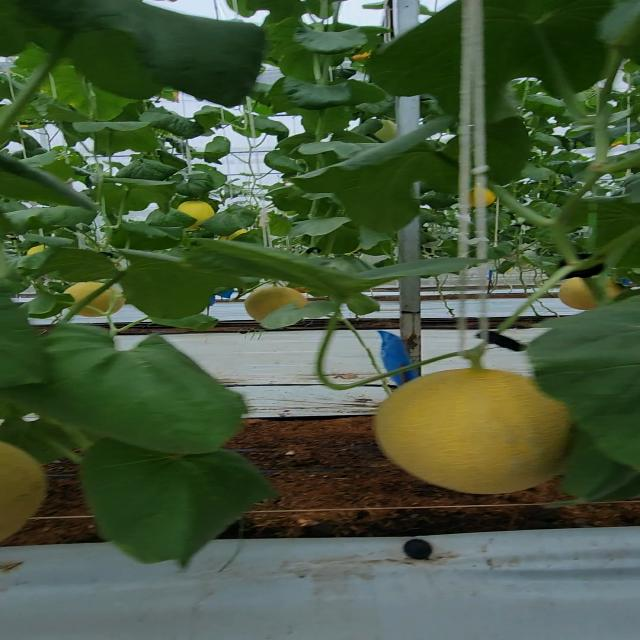Melon: (372, 368, 577, 494), (553, 276, 617, 312), (241, 288, 308, 322), (69, 282, 130, 314)
